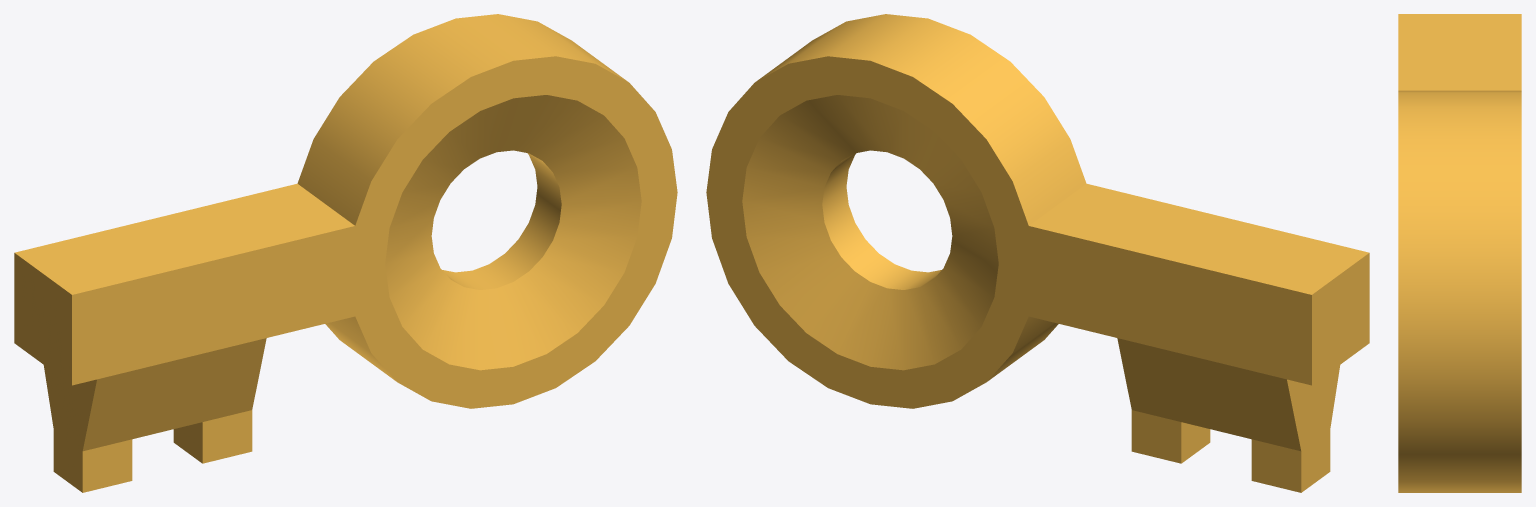
Rendered from key.glb.
3 views of the same model, side by side, from view 1: azimuth 30°, elevation 25°; view 2: azimuth 150°, elevation 25°; view 3: azimuth 270°, elevation 25° (orthographic). The views are drawn at different scales.
Parts seen in each view (by area): view 1: key; view 2: key; view 3: key.
Part boxes in pixels (<box>): key: <box>14,14,677,492</box>; key: <box>706,14,1369,492</box>; key: <box>1398,14,1521,492</box>.
Bounding box in the file's own units: 0.4107 × 0.2227 × 0.0679.
